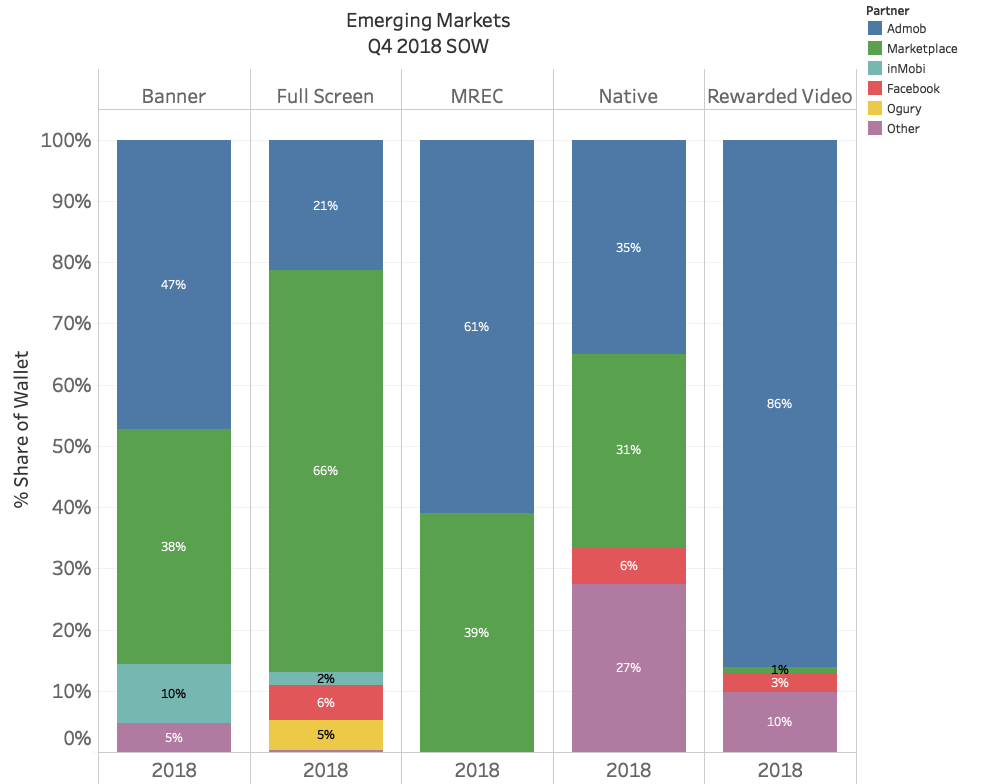

The dashboard page shown, as its layout file describes it:
{"tool":"tableau","page":{"name":"Dash-EmergingMarkets","canvas":[1000,800],"ordinal":2},"visuals":[{"type":"worksheet","title":"2018EmergingMarkets","mark":"Bar","cols":["ad_name","year"],"box":[0,0,869,800]},{"type":"legend","title":"2018EmergingMarkets","param":"[federated.0r0igg40si73g6184mxyn0eqz123].[none:connection:nk]","box":[869,0,127,800]}]}

Visuals, with their boxes in screenshot pixels (x1, y1, x2, y2), scaled from the page's 1000x800 canvas onto the 984x784 screenshot:
"2018EmergingMarkets" worksheet (Bar marks): 0:0:855:783
"2018EmergingMarkets" legend: 855:0:980:783
